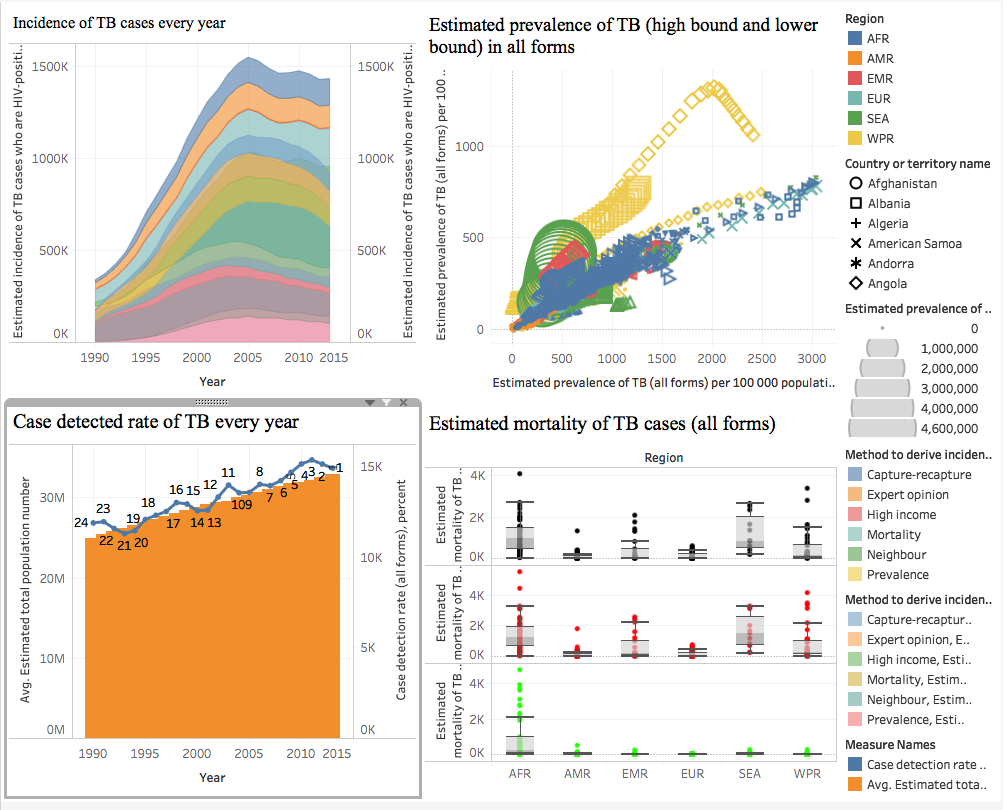

The page's visual inventory and layout, read from the dashboard file:
{"tool":"tableau","page":{"name":"Dashboard 1","canvas":[1000,800],"ordinal":0},"visuals":[{"type":"worksheet","title":"Incidence of TB cases every year","mark":"Area","rows":["Estimated incidence of TB cases who are HIV-positive, high b","Estimated incidence of TB cases who are HIV-positive, low bo"],"cols":["Year"],"box":[0,0,420,400]},{"type":"worksheet","title":"Estimated prevalence of TB (high bound and lower bound) in all forms","mark":"Automatic","rows":["Estimated prevalence of TB (all forms) per 100 000 populatio"],"cols":["Estimated prevalence of TB (all forms) per 100 000 populatio"],"box":[420,0,420,400]},{"type":"legend","title":"Estimated prevalence of TB (high bound and lower bound) in all forms","param":"[federated.021aqn20igot201fyyaum165ghq0].[none:Region:nk]","box":[840,0,160,149.2]},{"type":"legend","title":"Estimated prevalence of TB (high bound and lower bound) in all forms","param":"[federated.021aqn20igot201fyyaum165ghq0].[none:Country or territory name:nk]","box":[840,149.2,160,145.2]},{"type":"legend","title":"Estimated prevalence of TB (high bound and lower bound) in all forms","param":"[federated.021aqn20igot201fyyaum165ghq0].[sum:Estimated prevalence of TB (all fo","box":[840,294.4,160,145.2]},{"type":"worksheet","title":"Case detected rate of TB every year ","mark":"Automatic","rows":["Estimated total population number","Case detection rate (all forms), percent"],"cols":["Year"],"box":[0,400,420,400]},{"type":"worksheet","title":"Estimated mortality of TB cases(all forms)","mark":"Circle","cols":["Region"],"box":[420,400,420,400]},{"type":"legend","title":"Incidence of TB cases every year","param":"[federated.021aqn20igot201fyyaum165ghq0].[none:Method to derive incidence estima","box":[840,439.6,160,145.2]},{"type":"legend","title":"Incidence of TB cases every year","param":"[federated.021aqn20igot201fyyaum165ghq0].[none:Method to derive incidence estima","box":[840,584.8,160,145.2]},{"type":"legend","title":"Case detected rate of TB every year ","param":"[federated.021aqn20igot201fyyaum165ghq0].[:Measure Names]","box":[840,730,160,70]}]}

Visuals, with their boxes in screenshot pixels (x1, y1, x2, y2), scaled from the page's 1000x800 canvas onto the 1003x810 screenshot:
"Incidence of TB cases every year" worksheet (Area marks): {"x1": 0, "y1": 0, "x2": 421, "y2": 405}
"Estimated prevalence of TB (high bound and lower bound) in all forms" worksheet: {"x1": 421, "y1": 0, "x2": 843, "y2": 405}
"Estimated prevalence of TB (high bound and lower bound) in all forms" legend: {"x1": 843, "y1": 0, "x2": 1002, "y2": 151}
"Estimated prevalence of TB (high bound and lower bound) in all forms" legend: {"x1": 843, "y1": 151, "x2": 1002, "y2": 298}
"Estimated prevalence of TB (high bound and lower bound) in all forms" legend: {"x1": 843, "y1": 298, "x2": 1002, "y2": 445}
"Case detected rate of TB every year " worksheet: {"x1": 0, "y1": 405, "x2": 421, "y2": 809}
"Estimated mortality of TB cases(all forms)" worksheet (Circle marks): {"x1": 421, "y1": 405, "x2": 843, "y2": 809}
"Incidence of TB cases every year" legend: {"x1": 843, "y1": 445, "x2": 1002, "y2": 592}
"Incidence of TB cases every year" legend: {"x1": 843, "y1": 592, "x2": 1002, "y2": 739}
"Case detected rate of TB every year " legend: {"x1": 843, "y1": 739, "x2": 1002, "y2": 809}
